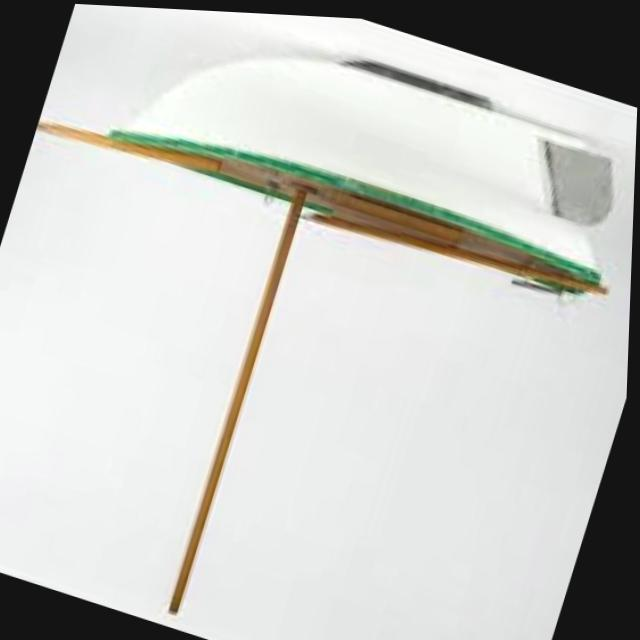ship2: (38, 51, 615, 612)
